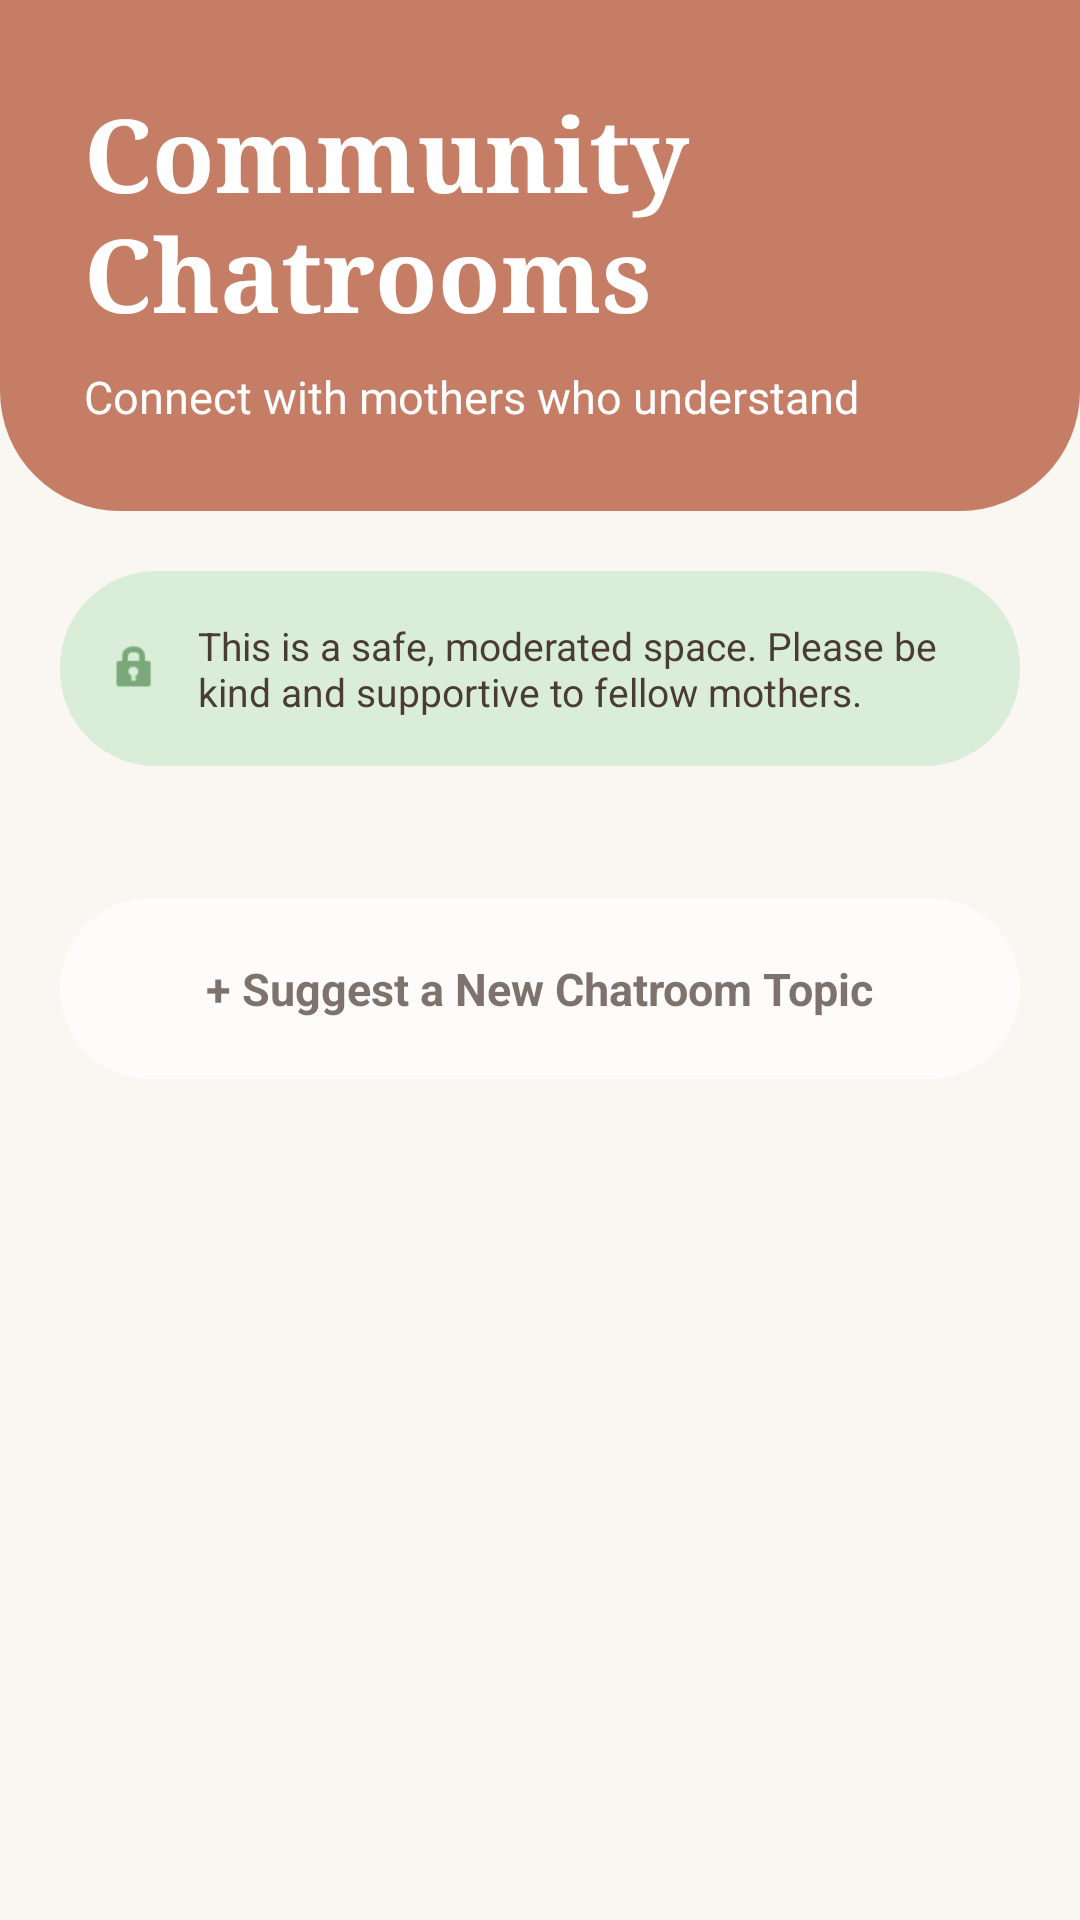

Named icons in this screenshot (1080 x 1920) and their bounding boxes, (x1, y1, x2, y2):
lock idle: (116, 646, 151, 687)
